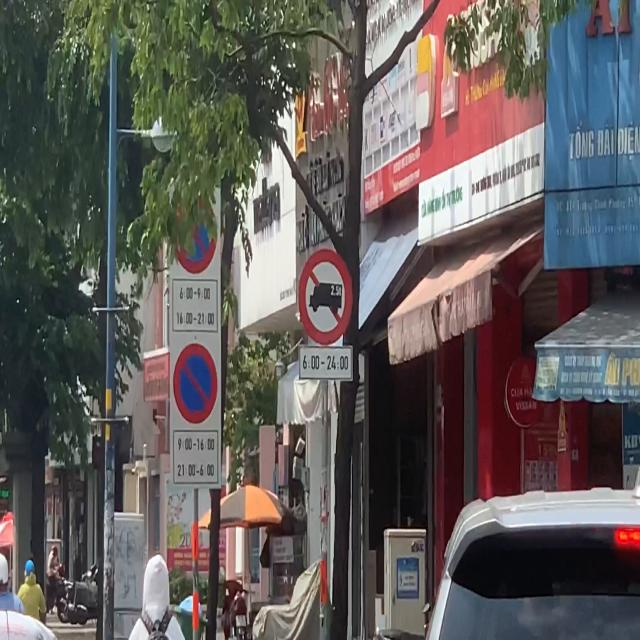Cam con lai: (298, 248, 353, 346)
Cam do: (173, 342, 218, 425)
Cam dung va do: (174, 192, 217, 274)
